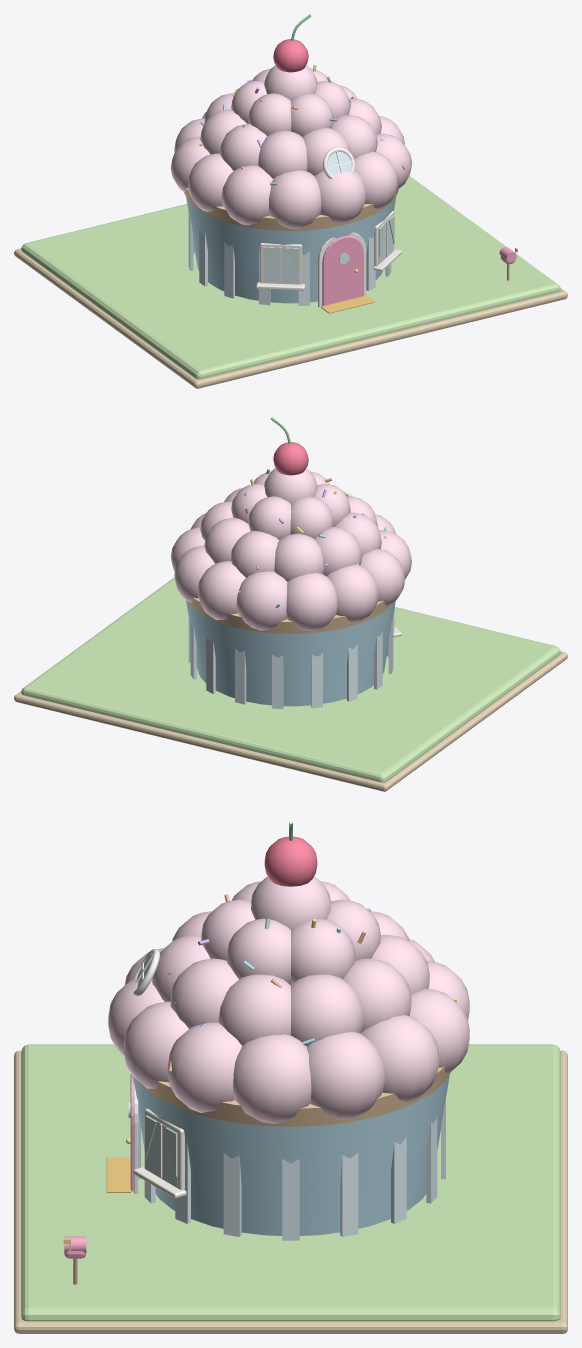
Rendered from building_sweets_L06.glb.
The picture shows the model from 3 angles, top to bottom: view 1: azimuth 30°, elevation 25°; view 2: azimuth 150°, elevation 25°; view 3: azimuth 270°, elevation 25°; orthographic projection. The views are drawn at different scales.
Parts seen in each view (by area): view 1: sweets_L6; view 2: sweets_L6; view 3: sweets_L6.
Part boxes in pixels (<box>): sweets_L6: <box>14,14,567,388</box>; sweets_L6: <box>14,417,567,791</box>; sweets_L6: <box>14,822,567,1333</box>.
Size of the model in its own units: 26.61 by 17.64 by 22.6.
